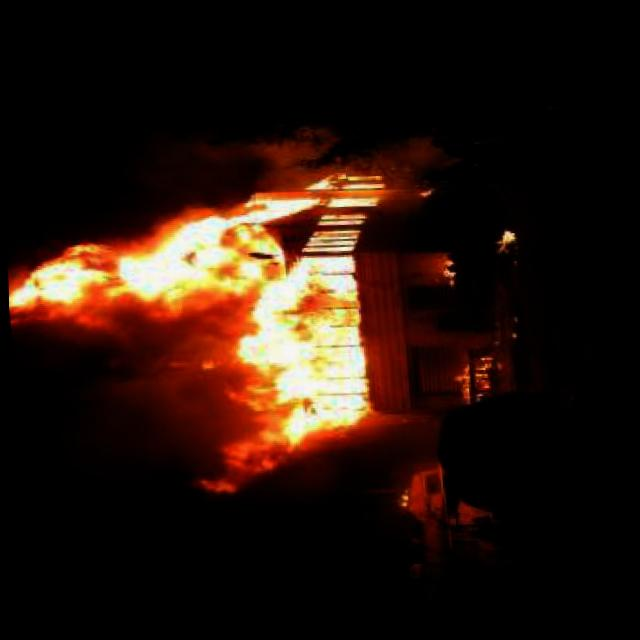Fire: (4, 158, 408, 513), (449, 349, 505, 404), (428, 252, 462, 287), (487, 221, 525, 252), (388, 477, 417, 510)
